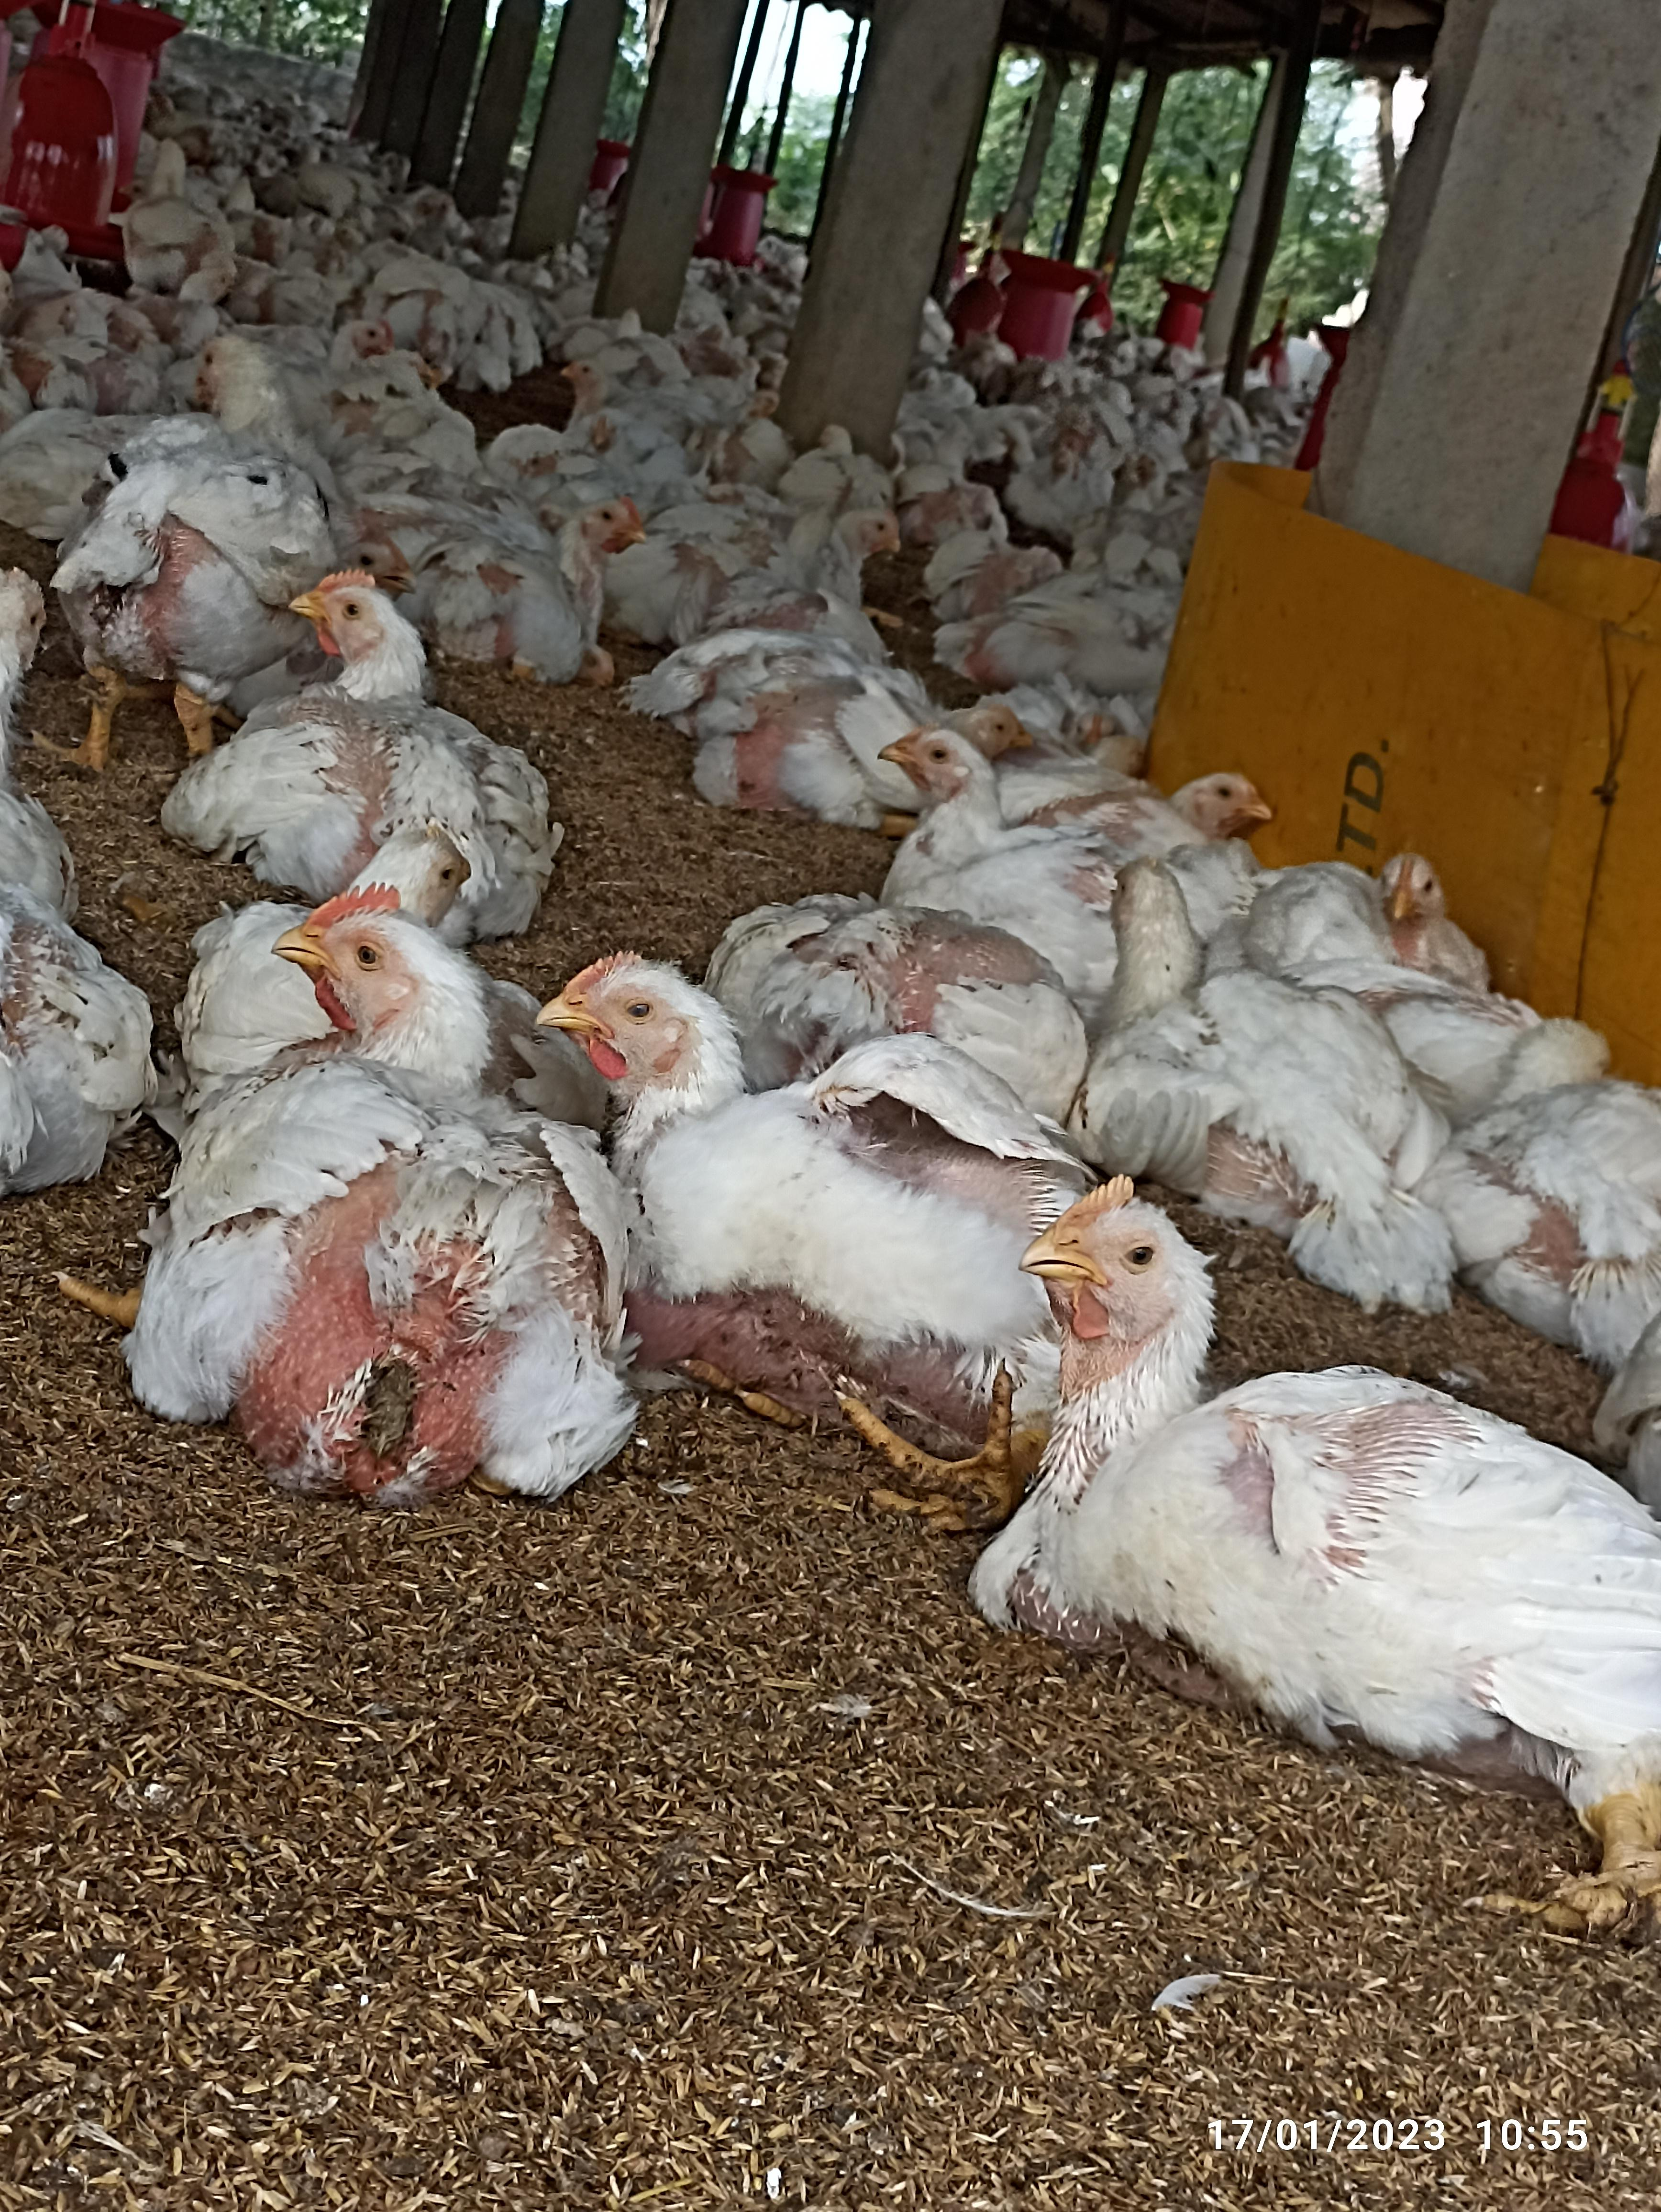Pollos: (1031, 1171, 1661, 1778), (537, 947, 1047, 1450), (187, 907, 635, 1478), (1101, 857, 1480, 1228), (208, 563, 548, 846), (89, 340, 323, 625), (872, 727, 1094, 925), (424, 492, 649, 654), (663, 511, 907, 635), (703, 668, 893, 815), (1042, 757, 1268, 853), (557, 352, 696, 431)
